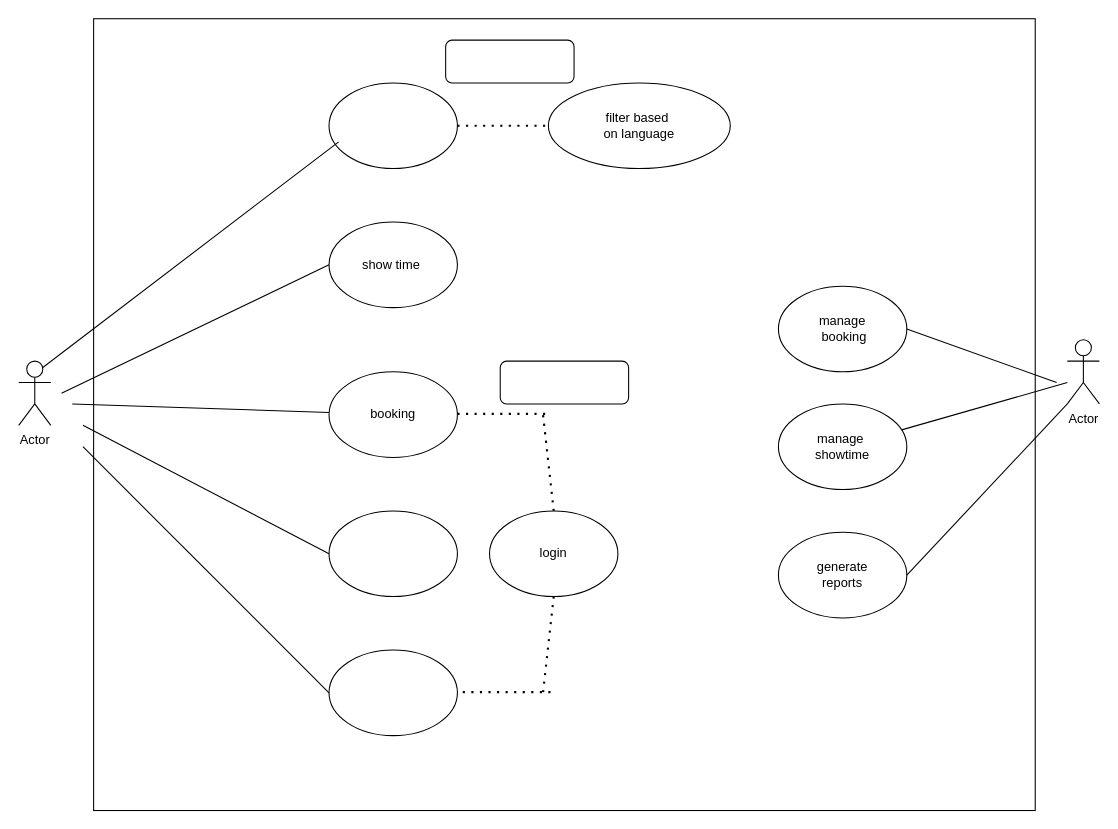
The diagram is 1118 pixels wide and 829 high, and some of its shapes have lost their labels. Each missing label, with the centre of its shape:
<<Extend>>: point 509,61
<<include>>: point 564,382
cancel booking: point 392,692
payment: point 392,553
search: point 392,125
